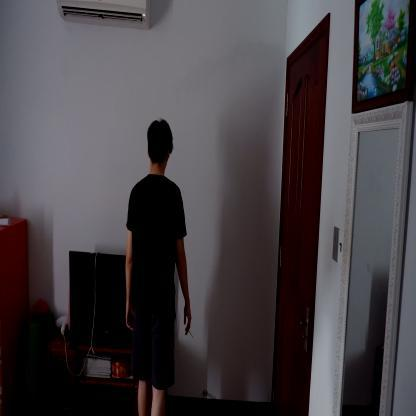cigarette: (188, 330, 193, 339)
person: (123, 116, 193, 415)
